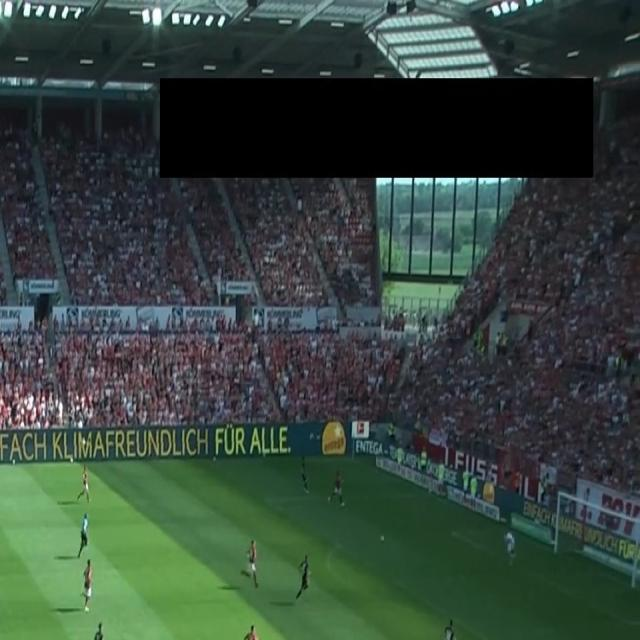ball: (380, 534, 384, 542)
